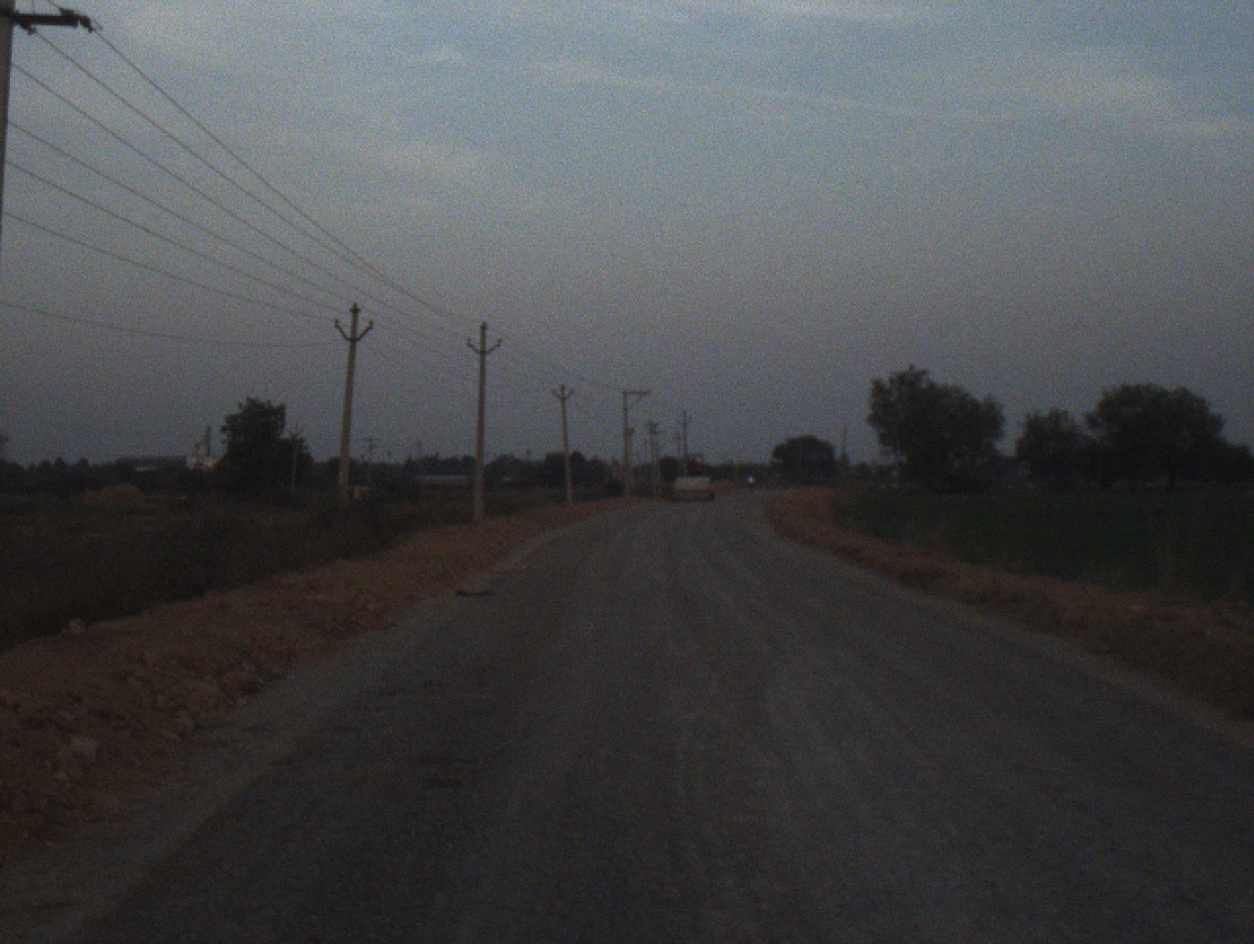vehicle fallback: (671, 448, 724, 509)
